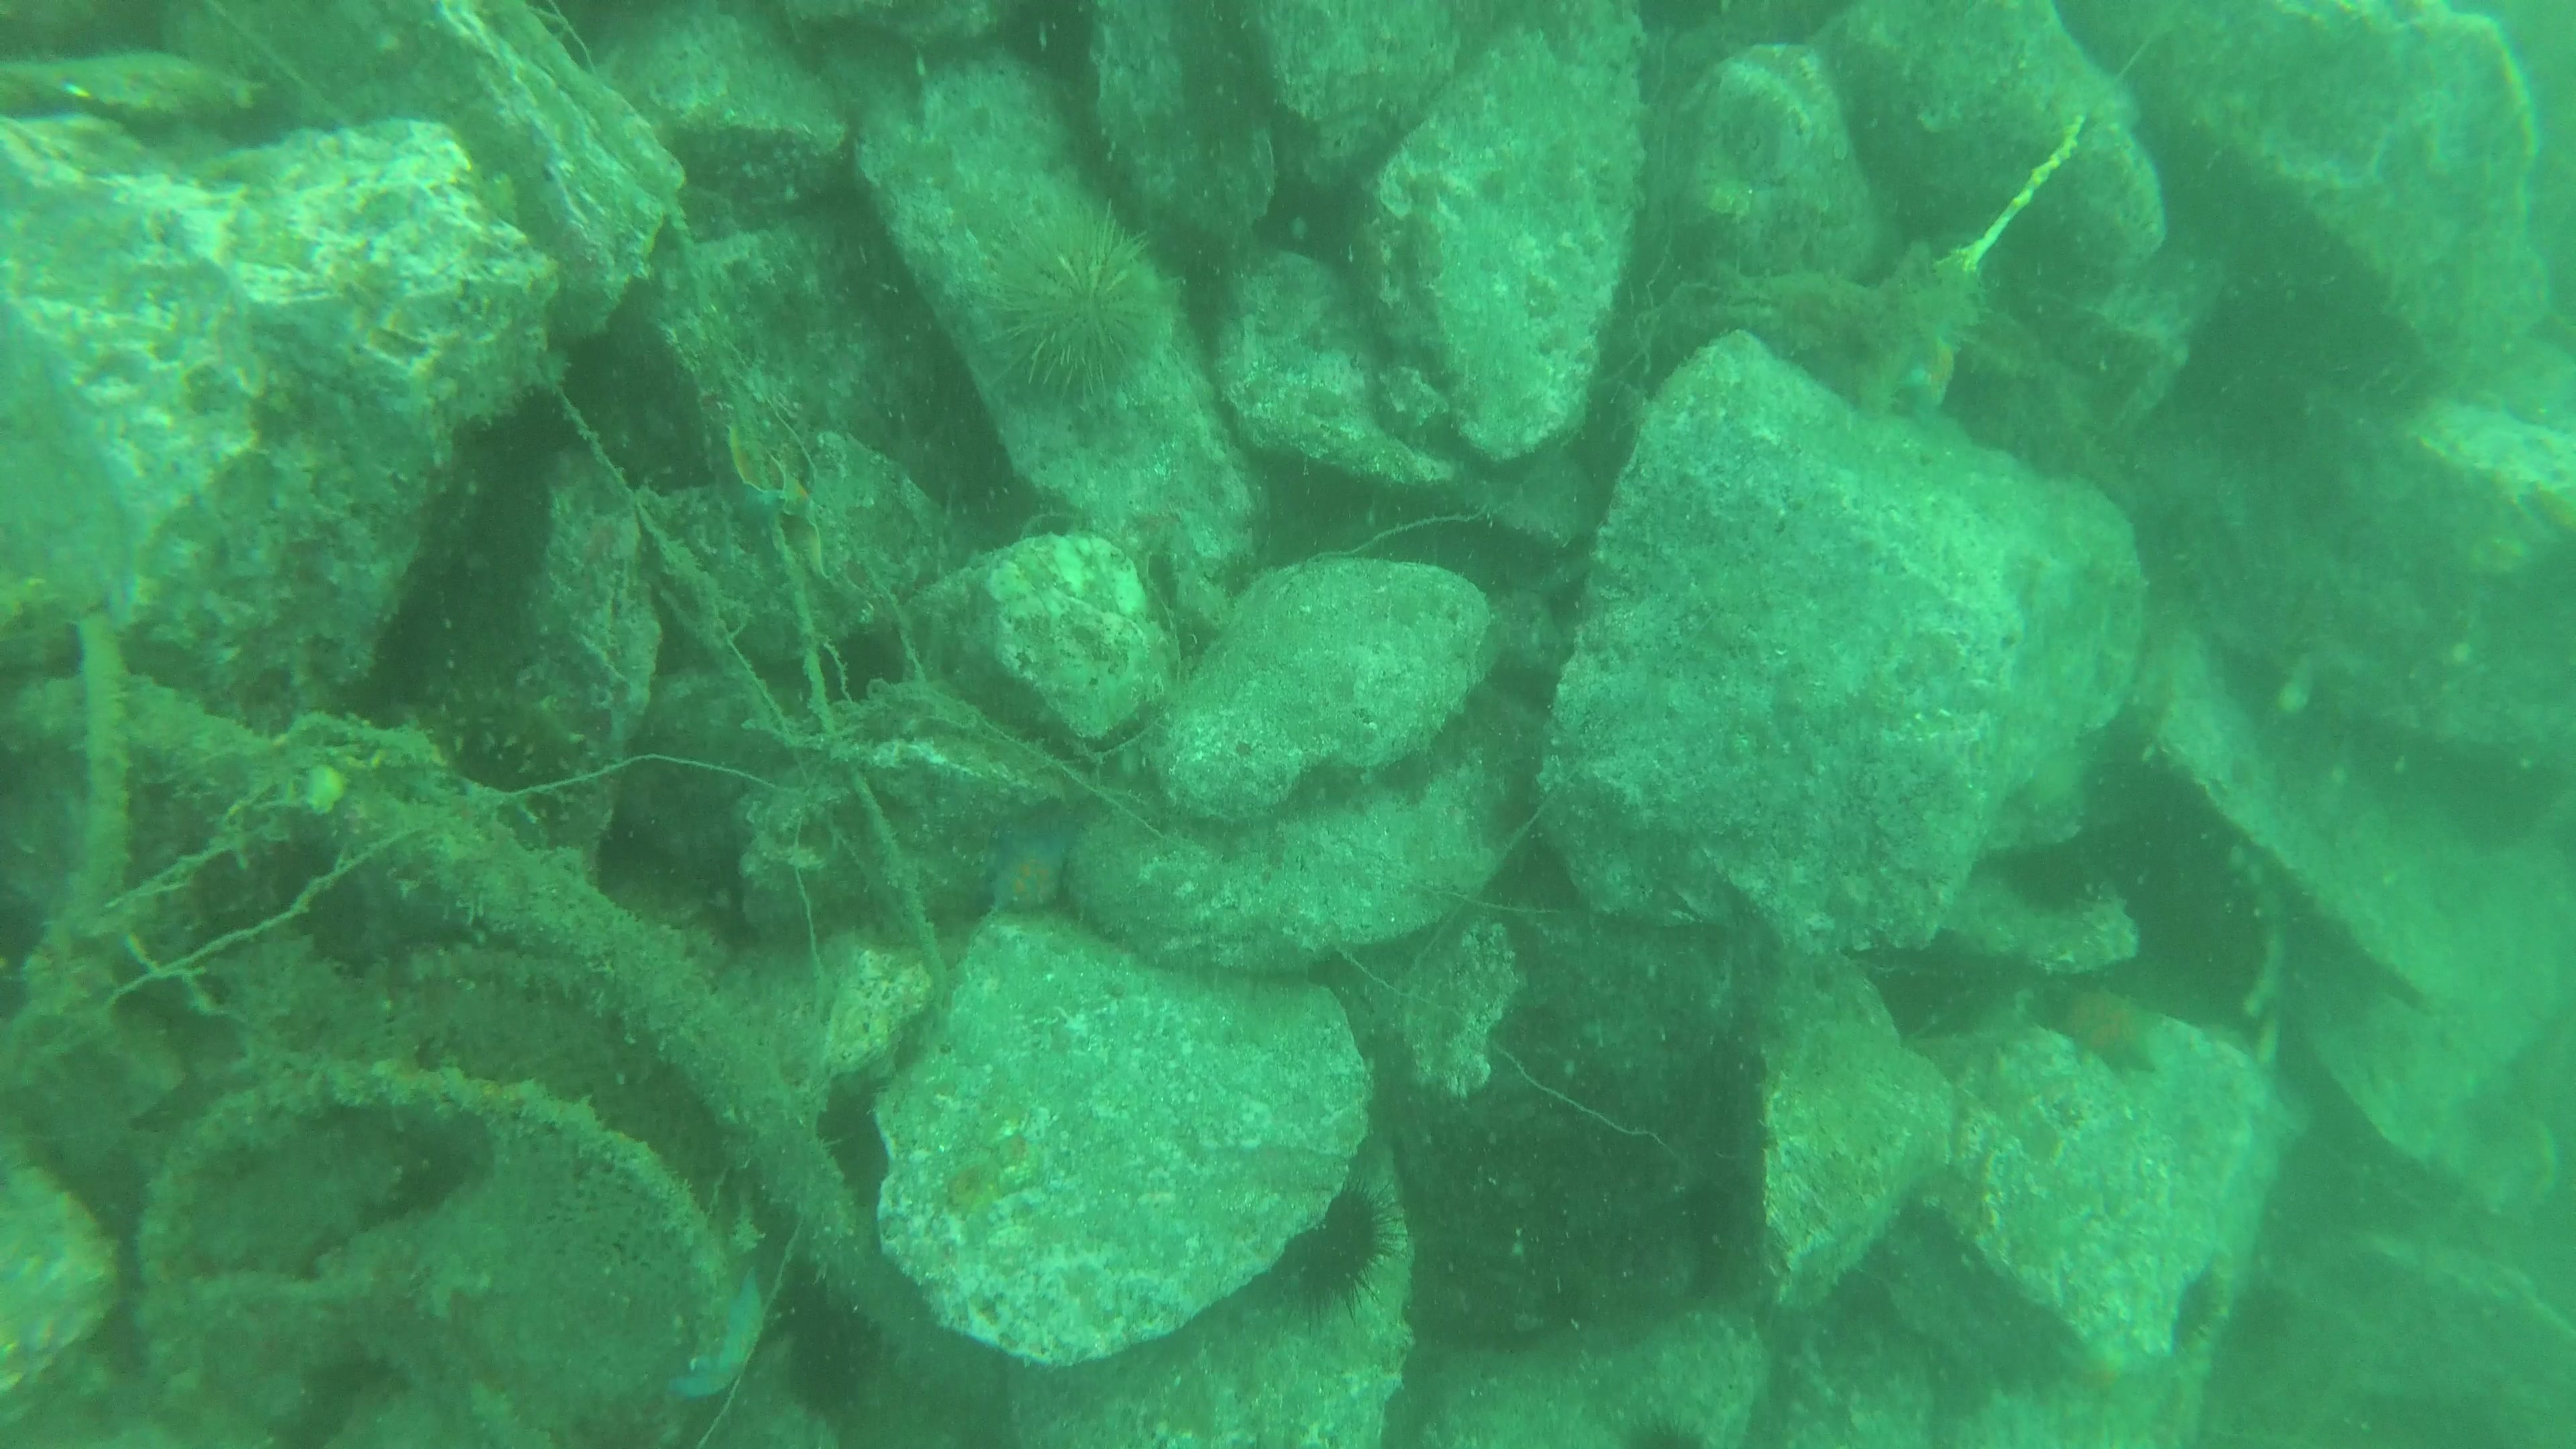echinus: (971, 207, 1180, 441), (1279, 1192, 1389, 1304), (1596, 1410, 1718, 1449)
holothurian: (430, 688, 586, 789)
starfish: (2043, 973, 2174, 1085), (681, 1279, 780, 1419), (975, 819, 1074, 931), (1907, 336, 1971, 433), (759, 456, 824, 543), (732, 478, 784, 541)
